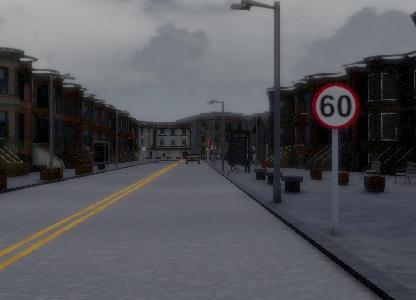Speed_60: (312, 80, 364, 129)
